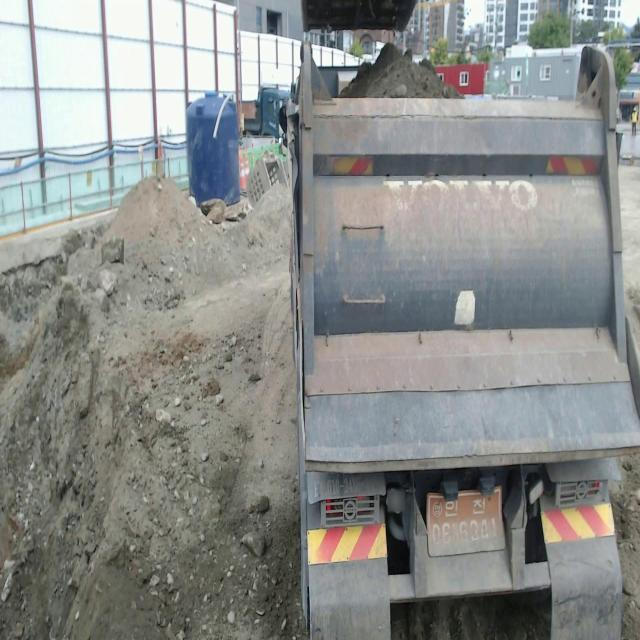red-sand: (0, 180, 309, 639), (339, 43, 463, 98)
